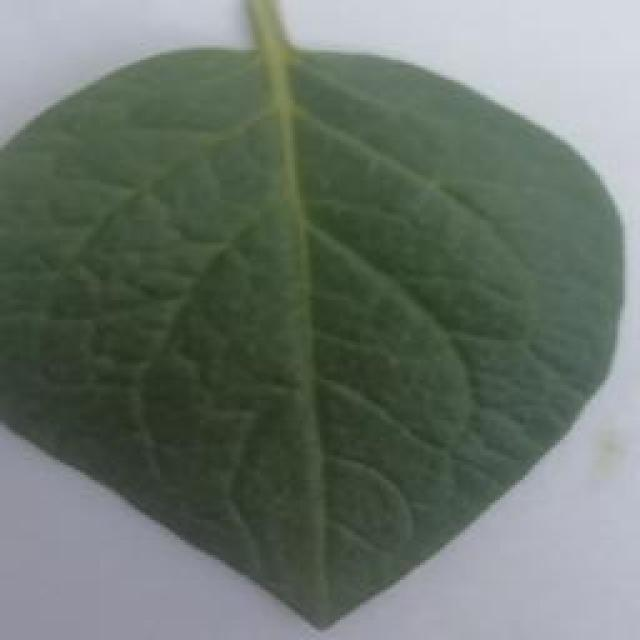Potato_Healthy: (6, 25, 618, 633)
